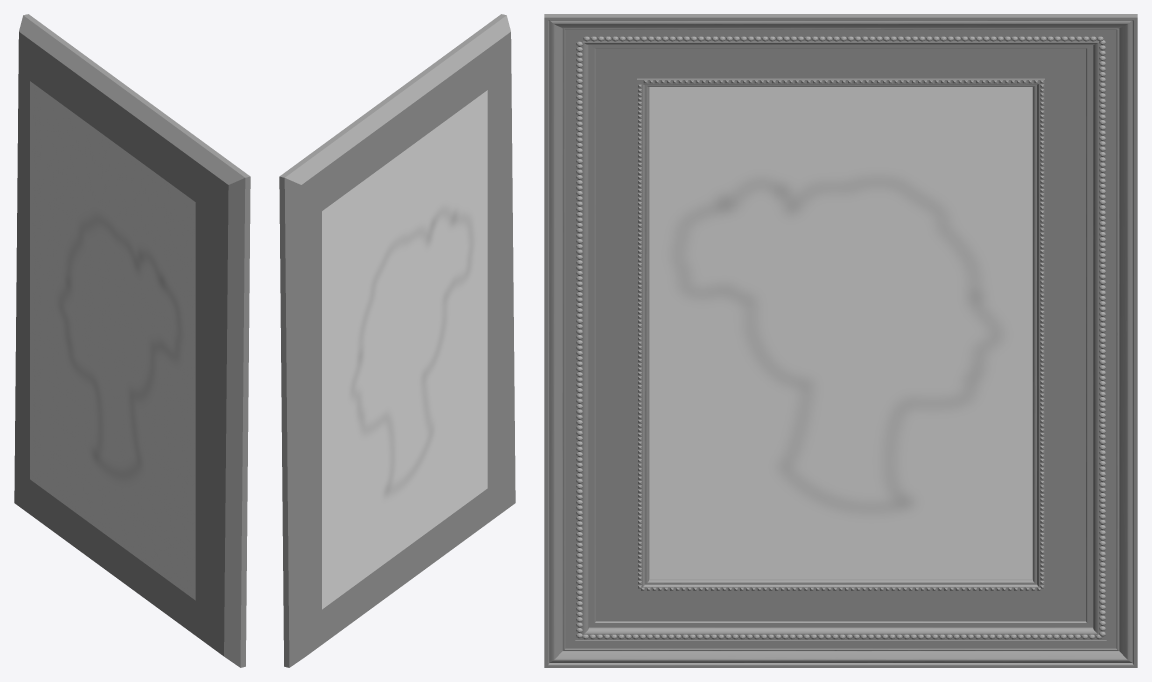
Rendered from pictureframe_outline_silhouette.fbx.
3 views of the same model, side by side, from view 1: azimuth 30°, elevation 25°; view 2: azimuth 150°, elevation 25°; view 3: azimuth 270°, elevation 25° (orthographic). The views are drawn at different scales.
Visible parts, largest first — view 1: pPlane1, vertical_frame; view 2: pPlane1, vertical_frame; view 3: vertical_frame, pPlane1.
Part boxes in pixels (left/top/right/bottom): pPlane1: left=30, top=81, right=195, bottom=600; vertical_frame: left=14, top=14, right=250, bottom=667; pPlane1: left=322, top=90, right=487, bottom=609; vertical_frame: left=279, top=14, right=515, bottom=667; vertical_frame: left=544, top=14, right=1137, bottom=667; pPlane1: left=649, top=87, right=1032, bottom=578.
Bounding box in the file's own units: 0.5539 × 12.58 × 10.36.
